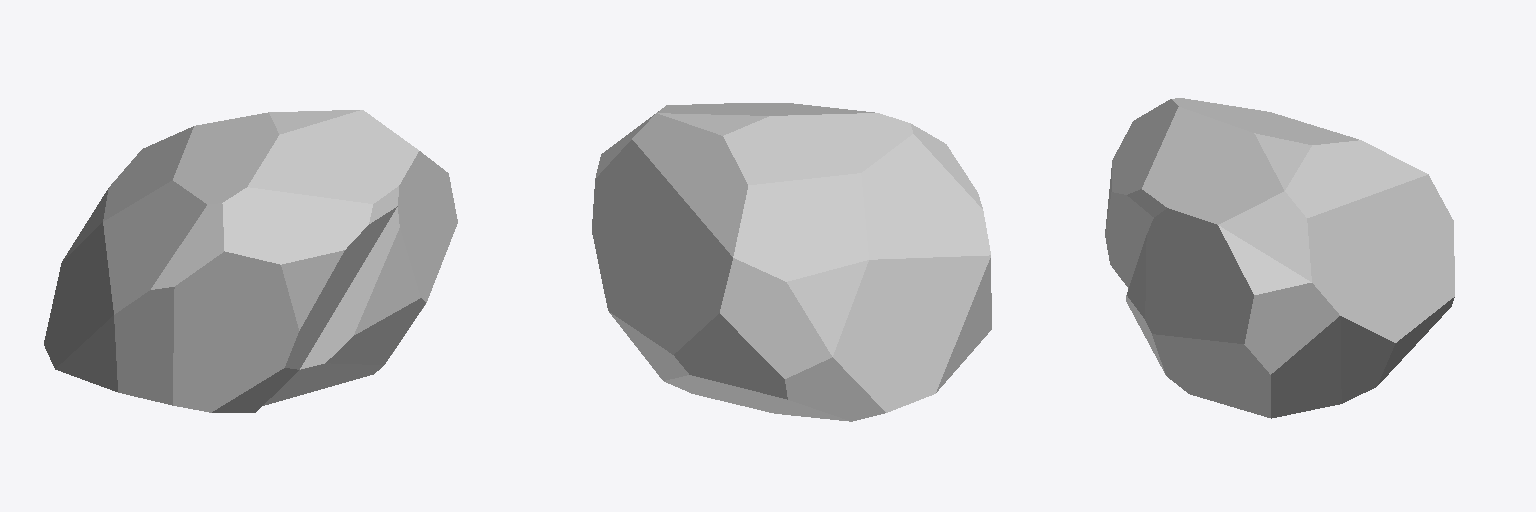
File: Rock_2.obj
3 renders of one model, left to right at view 1: azimuth 30°, elevation 25°; view 2: azimuth 150°, elevation 25°; view 3: azimuth 270°, elevation 25°, orthographic.
Visible parts, largest first — view 1: Rock.008; view 2: Rock.008; view 3: Rock.008.
Boxes of the visible parts, x1=… form: Rock.008: x1=44, y1=110, x2=457, y2=412; Rock.008: x1=592, y1=103, x2=991, y2=421; Rock.008: x1=1105, y1=98, x2=1454, y2=418.
Size of the model in its own units: 1.48 by 0.9847 by 1.22.